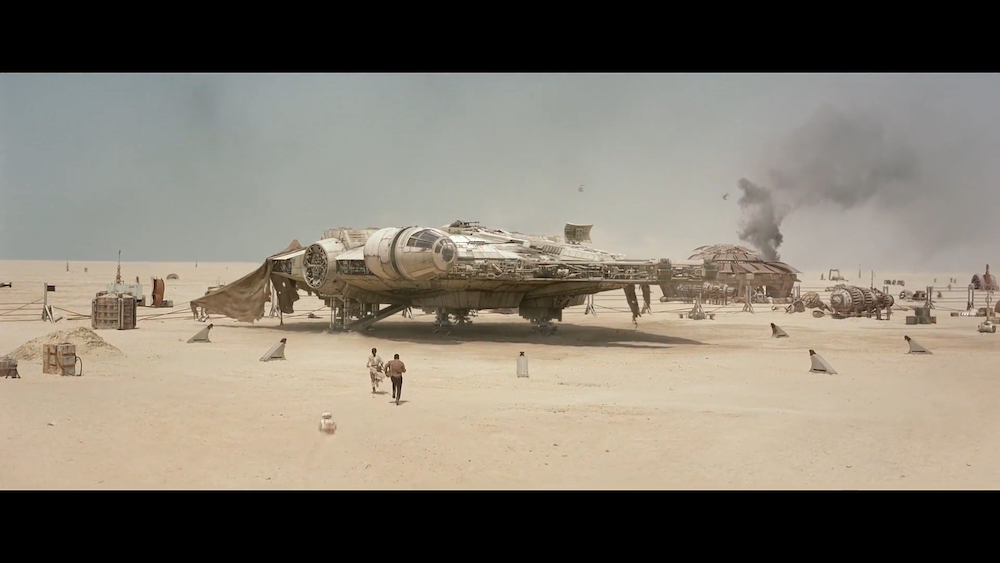Millennium Falcon: (266, 224, 717, 313)
Tie Fighter: (723, 192, 730, 201), (579, 184, 584, 193)
